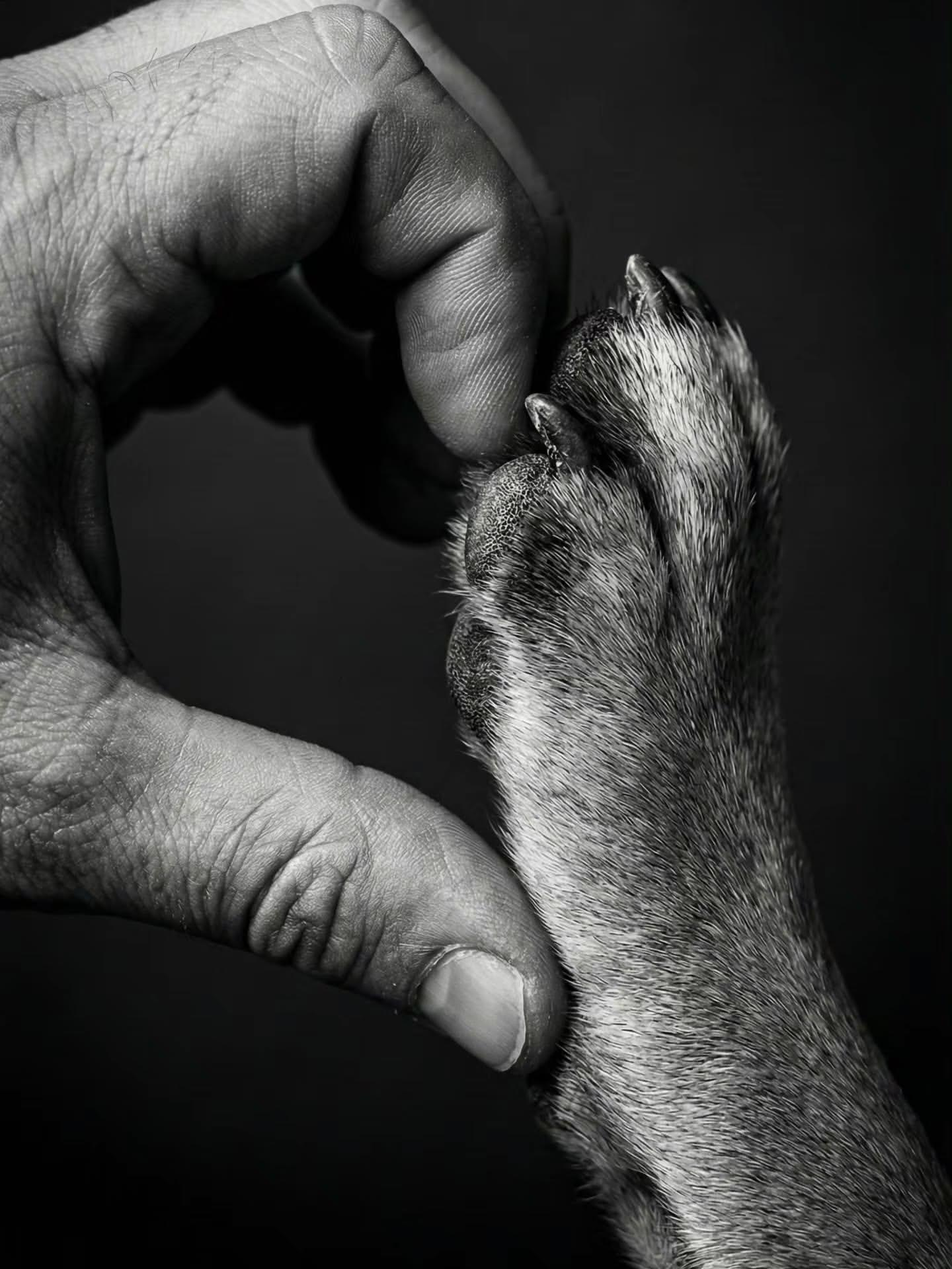adult_dog: (438, 252, 952, 1269)
non-dog: (0, 0, 575, 1083)
